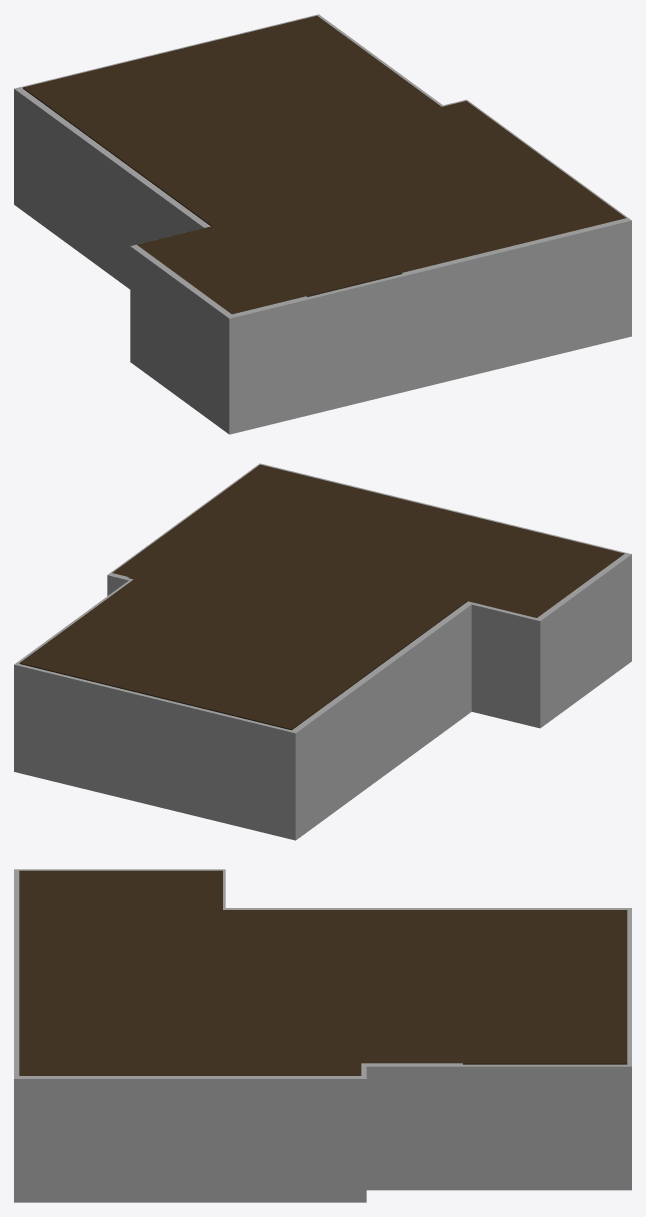
Rendered from crime scene 3 FBX.fbx.
3 renders of one model, top to bottom at view 1: azimuth 30°, elevation 25°; view 2: azimuth 150°, elevation 25°; view 3: azimuth 270°, elevation 25°, orthographic. The views are drawn at different scales.
Parts seen in each view (by area): view 1: Ceiling_3, Building_3; view 2: Ceiling_3, Building_3; view 3: Ceiling_3, Building_3.
Boxes of the visible parts, x1=… form: Ceiling_3: x1=23, y1=15, x2=625, y2=314; Building_3: x1=14, y1=14, x2=631, y2=434; Ceiling_3: x1=19, y1=464, x2=624, y2=730; Building_3: x1=14, y1=463, x2=631, y2=840; Ceiling_3: x1=19, y1=870, x2=627, y2=1075; Building_3: x1=14, y1=869, x2=631, y2=1202.
Bounding box in the file's own units: 29.05 × 8.08 × 36.2.
